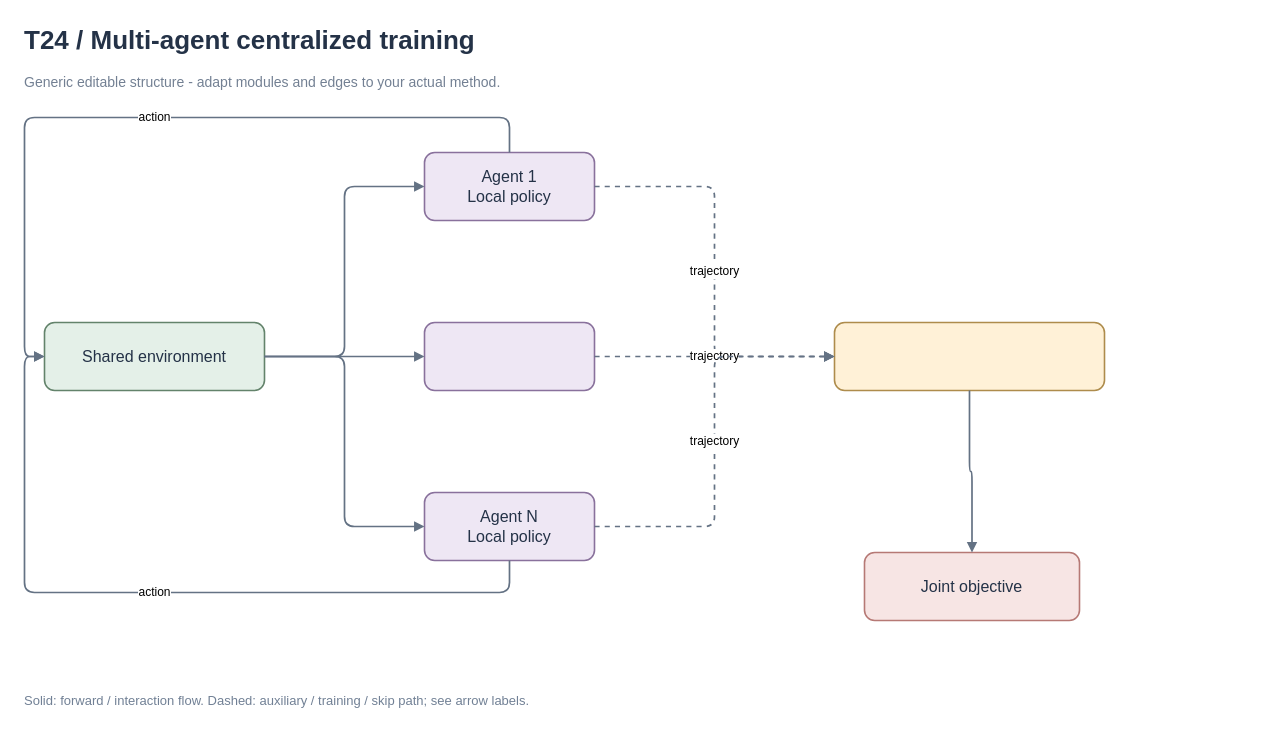
This 1270x733 diagram has some shape labels left out. Each missing label, with the centre of its shape:
Agent 2 Local policy: (x=509, y=356)
Central critic / mixer Training only: (x=969, y=356)
